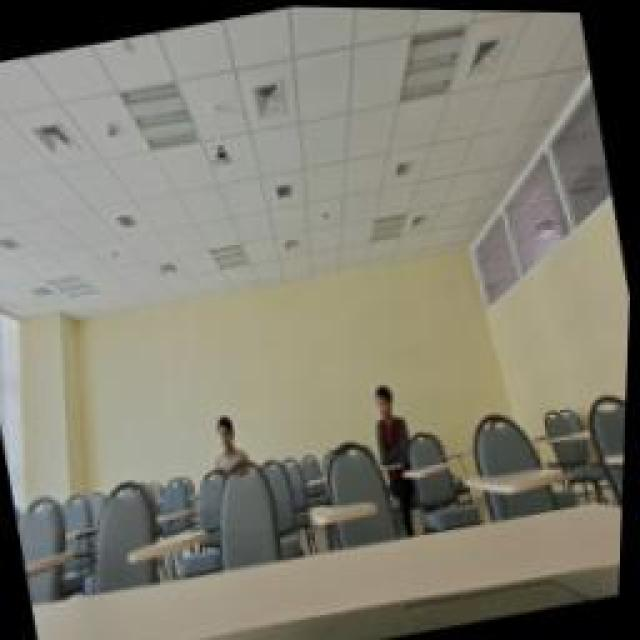study: (368, 377, 420, 465), (203, 408, 255, 480)
